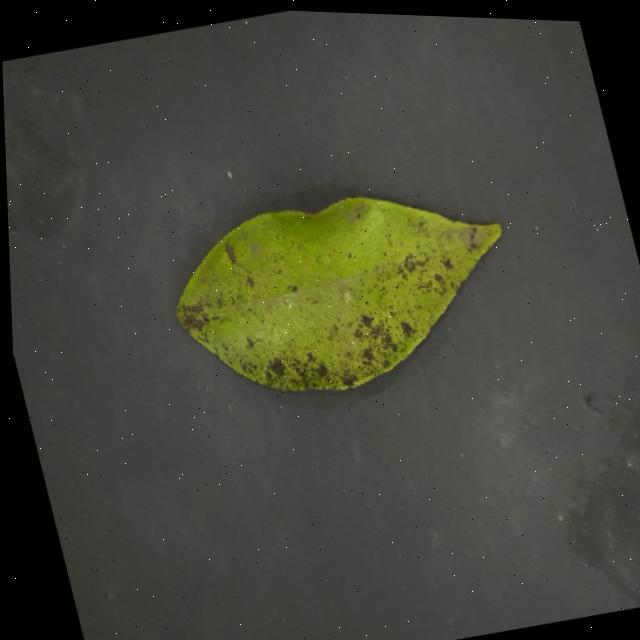greasy_spot: (177, 197, 501, 391)
